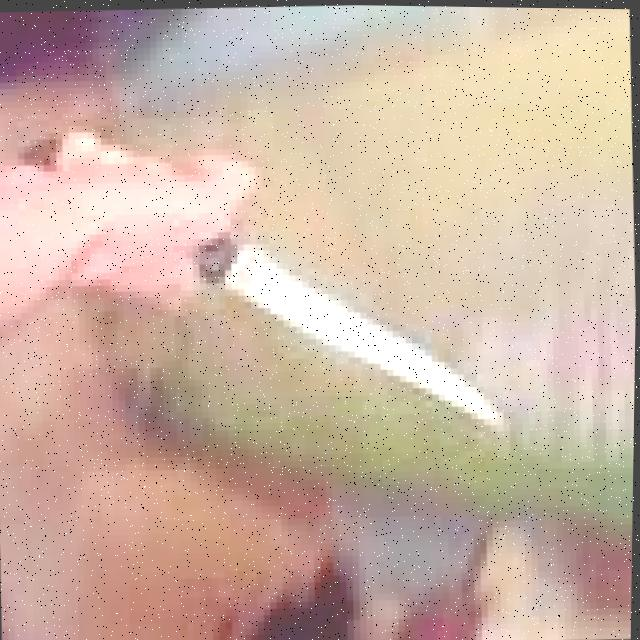knife: (210, 229, 511, 441)
